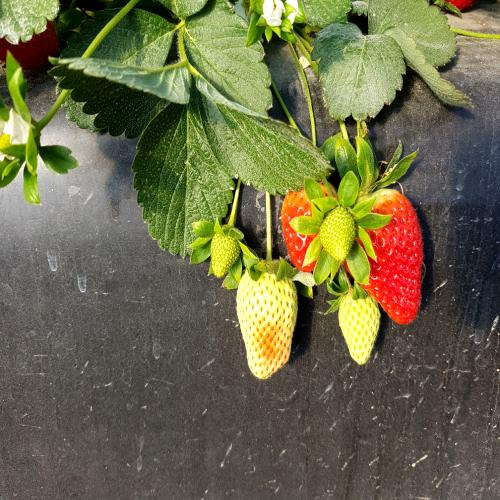partially-ripe: (233, 258, 303, 385)
ripe: (349, 182, 432, 335)
